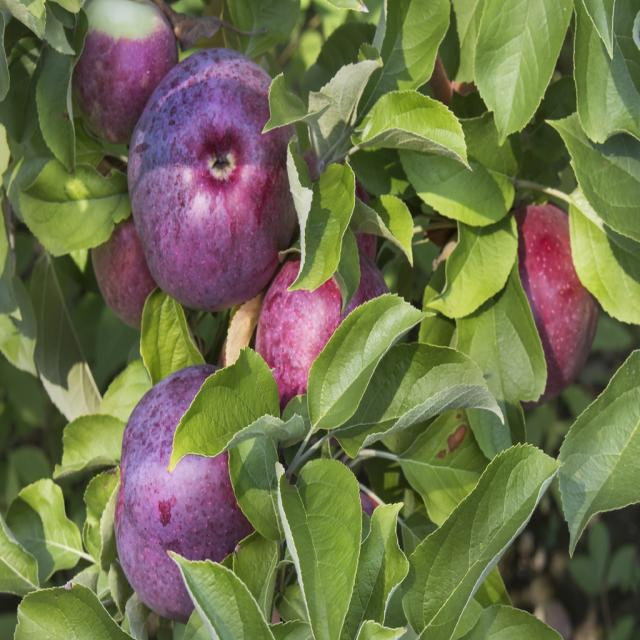Healty Apple: (74, 0, 600, 628), (126, 44, 316, 312), (517, 195, 607, 406)
